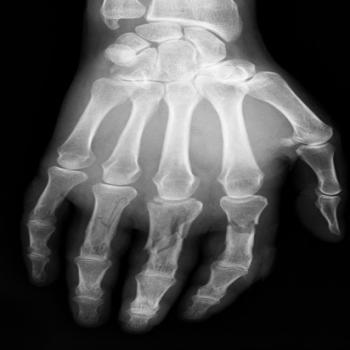Fracture: (141, 214, 202, 262), (83, 201, 134, 238), (223, 213, 275, 241)
